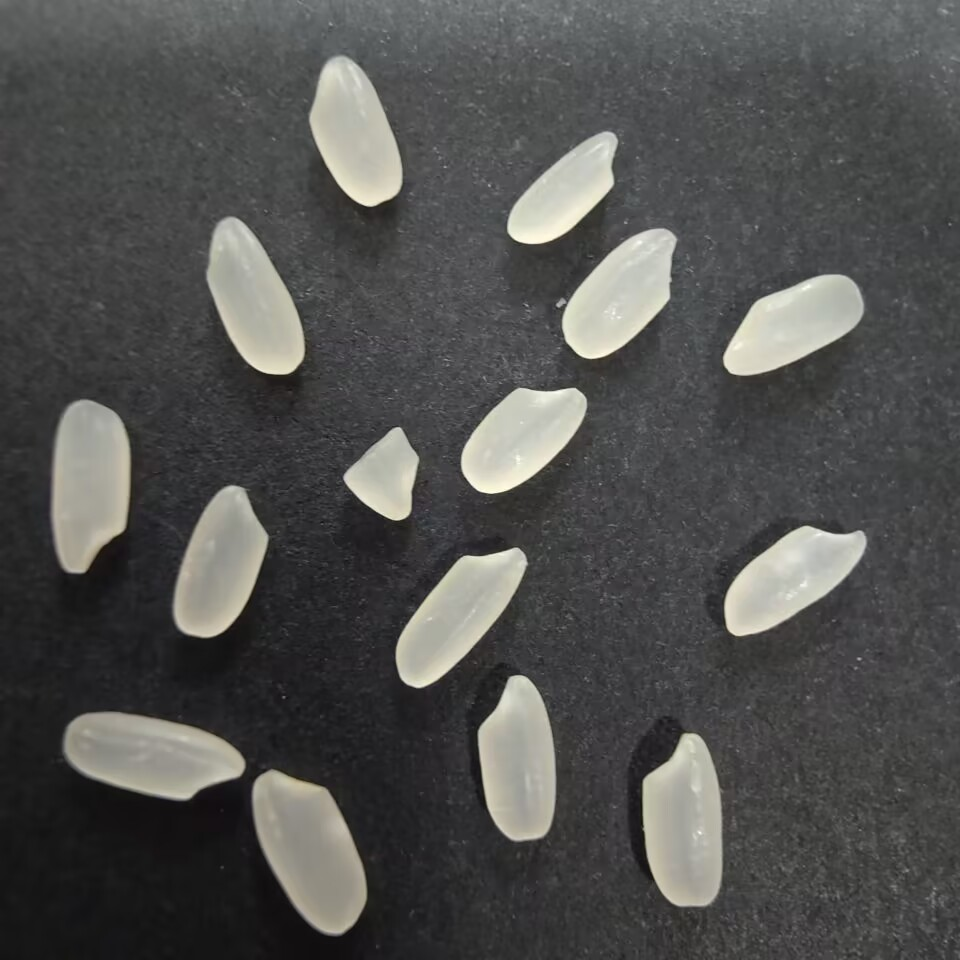broken: (335, 421, 429, 529)
rice: (244, 763, 375, 938), (392, 543, 530, 694), (197, 211, 313, 386), (55, 710, 252, 807), (629, 730, 732, 912), (719, 518, 869, 642), (46, 392, 139, 584), (470, 667, 568, 848), (556, 220, 681, 360), (170, 480, 275, 645), (712, 269, 868, 380), (303, 54, 410, 212), (454, 378, 591, 497), (502, 128, 626, 248)
